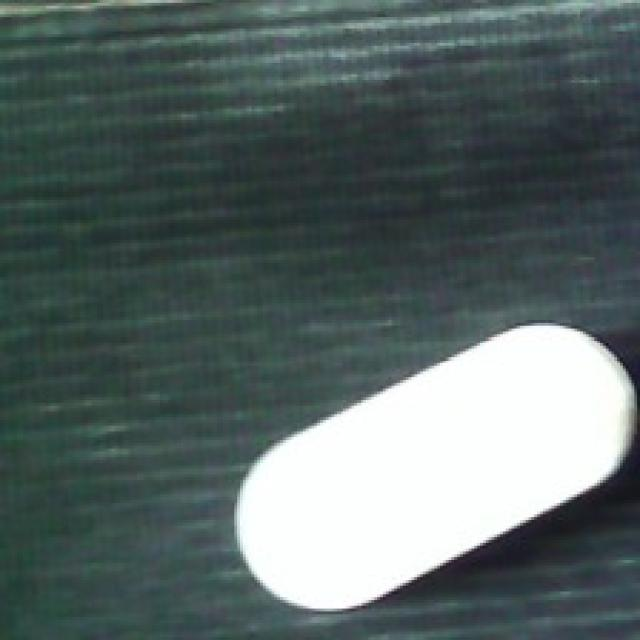no-defect: (228, 320, 640, 611)
